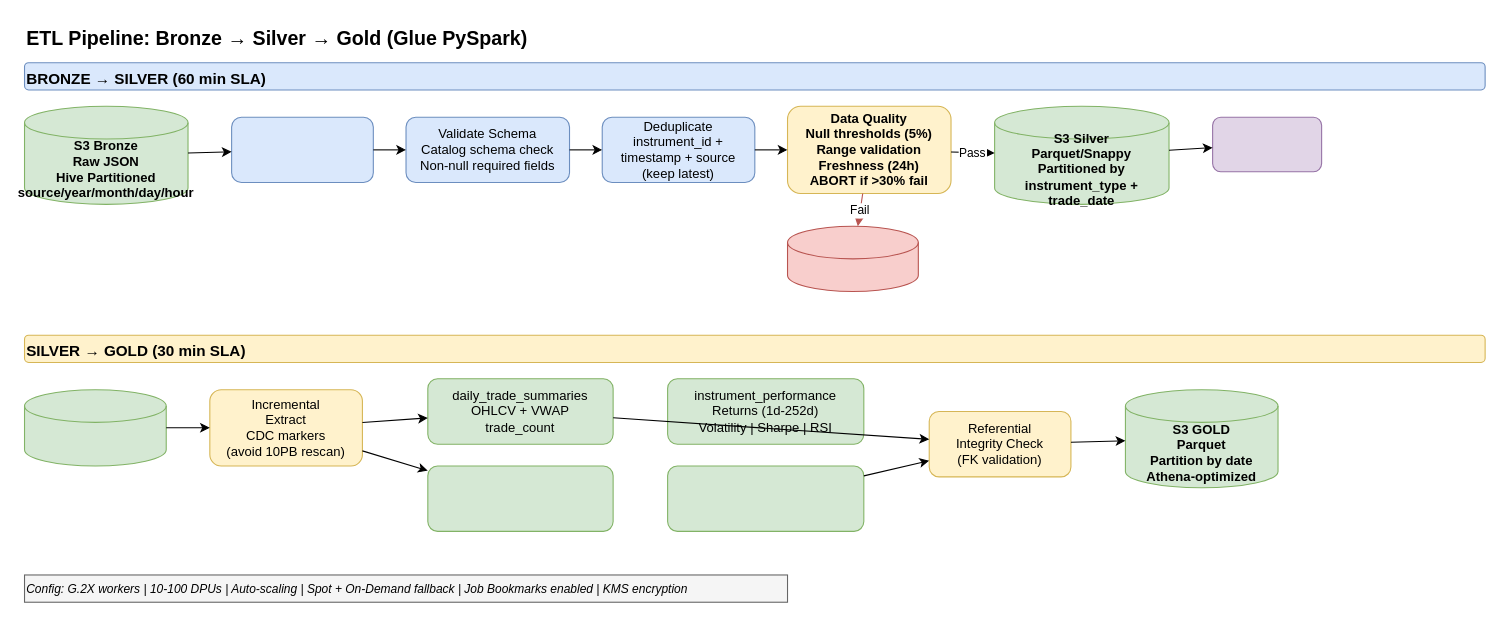
The diagram is 1504 pixels wide and 621 high, and some of its shapes have lost their labels. The shapes that lost their labels are listed below. From the top down, each one's box as (x1, y1, x2, y2) in pixels, then its label:
(231, 116, 373, 183): Extract Glue Catalog push_down_predicate
(1212, 116, 1322, 172): Lineage Record (S3 JSON)
(786, 225, 918, 292): Error Partition _errors/
(23, 389, 166, 466): S3 Silver Validated Parquet
(427, 465, 613, 531): client_portfolio_snapshots Positions + P&L Avg cost basis
(667, 465, 864, 531): risk_exposure_aggregates VaR | CVaR | Beta By client/sector/geo
